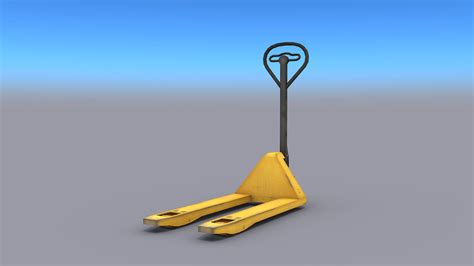Pallet Jack: (144, 41, 308, 236)
